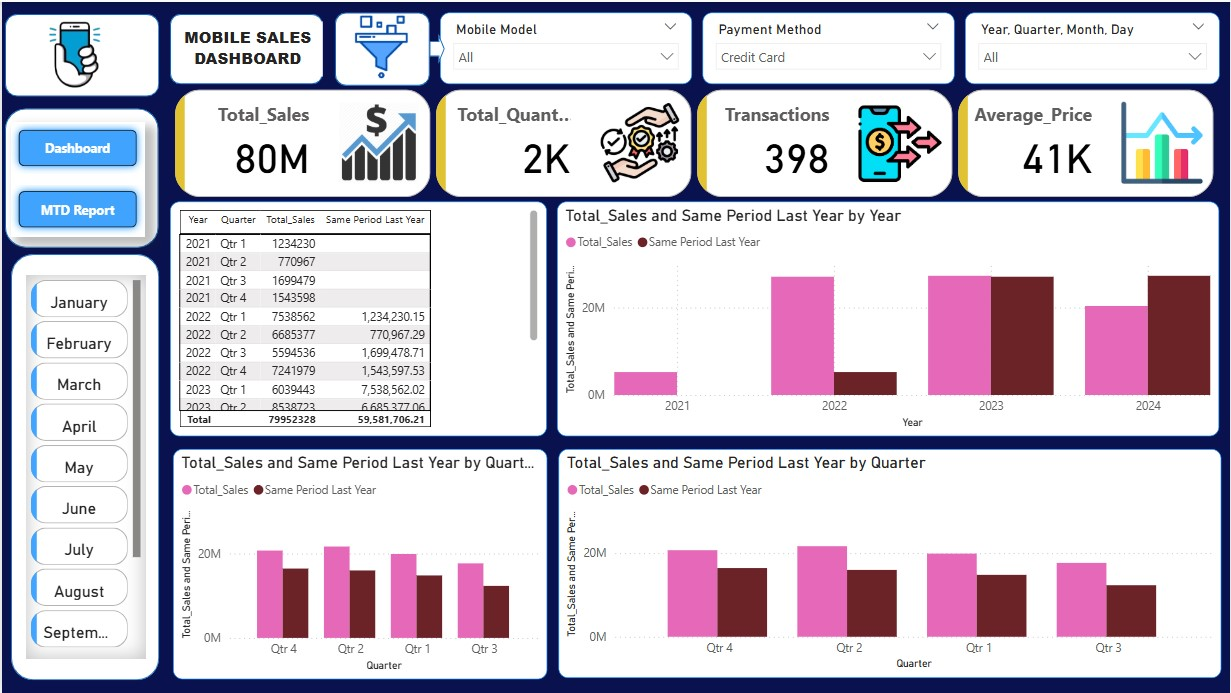

This screenshot's page, from the dashboard's own definition file:
{"tool":"powerbi","page":{"name":"Same Period Last Year","canvas":[1280,720],"ordinal":2},"visuals":[{"type":"shape","box":[3.2,12.7,160.7,85.9],"z":0},{"type":"image","box":[14.3,8,122.5,90.7],"z":1000},{"type":"shape","box":[3.3,111.7,160,145],"z":2000},{"type":"slicer","fields":{"Values":["Mobile_Sales_Data.Mobile Model"]},"box":[456.5,11.1,262.5,74.8],"z":3000},{"type":"slicer","fields":{"Values":["Mobile_Sales_Data.Payment Method"]},"box":[730.1,11.1,262.5,74.8],"z":4000},{"type":"slicer","fields":{"Values":["Custom_Calendar.Date.Variation.Date Hierarchy.Year","Custom_Calendar.Date.Variation.Date Hierarchy.Quarter","Custom_Calendar.Date.Variation.Date Hierarchy.Month","Custom_Calendar.Date.Variation.Date Hierarchy.Day"]},"box":[1003.7,11.1,265.6,74.8],"z":5000},{"type":"shape","box":[346.8,11.1,98.6,76.3],"z":6000},{"type":"image","box":[211.6,8,369,77.9],"z":7000},{"type":"shape","box":[445.4,33.4,15.9,31.8],"z":8000},{"type":"shape","box":[175,12.7,159.1,73.2],"z":9000},{"type":"textbox","box":[178.1,20.7,155.9,57.3],"z":10000},{"type":"shape","box":[9.5,263,154.4,444.2],"z":11000},{"type":"advancedSlicerVisual","fields":{"Values":["Custom_Calendar.Date.Variation.Date Hierarchy.Month"]},"box":[25.2,285.1,124.4,400.1],"z":12000},{"type":"tableEx","fields":{"Values":["Custom_Calendar.Date.Variation.Date Hierarchy.Year","Custom_Calendar.Date.Variation.Date Hierarchy.Quarter","Mobile_Sales_Data.Total_Sales","Mobile_Sales_Data.Same Period Last Year"]},"box":[175,208.4,392.9,245],"z":13000},{"type":"clusteredColumnChart","fields":{"Category":["Custom_Calendar.Date.Variation.Date Hierarchy.Year","Custom_Calendar.Date.Variation.Date Hierarchy.Quarter"],"Y":["Mobile_Sales_Data.Total_Sales","Mobile_Sales_Data.Same Period Last Year"]},"box":[579,208.4,690.3,245],"z":14000},{"type":"clusteredColumnChart","fields":{"Category":["Custom_Calendar.Date.Variation.Date Hierarchy.Year","Custom_Calendar.Date.Variation.Date Hierarchy.Quarter"],"Y":["Mobile_Sales_Data.Total_Sales","Mobile_Sales_Data.Same Period Last Year"]},"box":[579.2,465.8,690.6,239],"z":15000},{"type":"clusteredColumnChart","fields":{"Category":["Custom_Calendar.Date.Variation.Date Hierarchy.Year","Custom_Calendar.Date.Variation.Date Hierarchy.Quarter"],"Y":["Mobile_Sales_Data.Total_Sales","Mobile_Sales_Data.Same Period Last Year"]},"box":[178.1,466,389.7,240.2],"z":16000},{"type":"pageNavigator","box":[9.5,125.7,140,119.3],"z":17000},{"type":"cardVisual","fields":{"Data":["Mobile_Sales_Data.Total_Sales","Mobile_Sales_Data.Total_Quantity","Mobile_Sales_Data.Transactions","Mobile_Sales_Data.Average_Price"]},"box":[175,85.9,1094.3,122.5],"z":17001}]}

Visuals, with their boxes in screenshot pixels (x1, y1, x2, y2), scaled from the page's 1280x720 canvas onto the 1231x693 screenshot:
shape: (3, 12, 158, 95)
image: (14, 8, 132, 95)
shape: (3, 108, 157, 247)
slicer - Mobile_Sales_Data.Mobile Model: (439, 11, 691, 83)
slicer - Mobile_Sales_Data.Payment Method: (702, 11, 955, 83)
slicer - Custom_Calendar.Date.Variation.Date Hierarchy.Year x Custom_Calendar.Date.Variation.Date Hierarchy.Quarter: (965, 11, 1221, 83)
shape: (334, 11, 428, 84)
image: (203, 8, 558, 83)
shape: (428, 32, 444, 63)
shape: (168, 12, 321, 83)
textbox: (171, 20, 321, 75)
shape: (9, 253, 158, 681)
advancedSlicerVisual - Custom_Calendar.Date.Variation.Date Hierarchy.Month: (24, 274, 144, 660)
tableEx - Custom_Calendar.Date.Variation.Date Hierarchy.Year x Custom_Calendar.Date.Variation.Date Hierarchy.Quarter: (168, 201, 546, 436)
clusteredColumnChart - Custom_Calendar.Date.Variation.Date Hierarchy.Year x Custom_Calendar.Date.Variation.Date Hierarchy.Quarter: (557, 201, 1221, 436)
clusteredColumnChart - Custom_Calendar.Date.Variation.Date Hierarchy.Year x Custom_Calendar.Date.Variation.Date Hierarchy.Quarter: (557, 448, 1221, 678)
clusteredColumnChart - Custom_Calendar.Date.Variation.Date Hierarchy.Year x Custom_Calendar.Date.Variation.Date Hierarchy.Quarter: (171, 449, 546, 680)
pageNavigator: (9, 121, 144, 236)
cardVisual - Mobile_Sales_Data.Total_Sales x Mobile_Sales_Data.Total_Quantity: (168, 83, 1221, 201)
